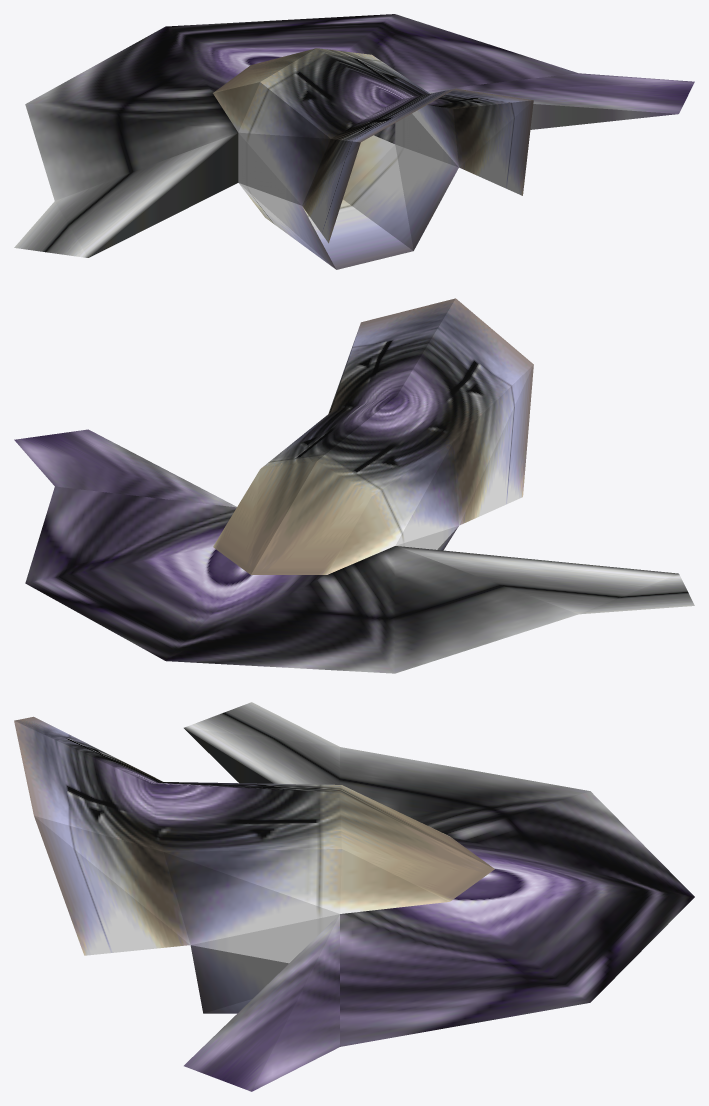
Rendered from twinblade102_6.obj.
3 views of the same model, one above another, from view 1: azimuth 30°, elevation 25°; view 2: azimuth 150°, elevation 25°; view 3: azimuth 270°, elevation 25° (orthographic). The views are drawn at different scales.
Parts seen in each view (by area): view 1: MDL_cwdhkn02_6r; view 2: MDL_cwdhkn02_6r; view 3: MDL_cwdhkn02_6r.
Part boxes in pixels (x1,y1,x2,y2): MDL_cwdhkn02_6r: (14, 14, 694, 269); MDL_cwdhkn02_6r: (14, 298, 694, 673); MDL_cwdhkn02_6r: (14, 702, 694, 1091).
Size of the model in its own units: 0.64 by 0.2074 by 0.4725.
